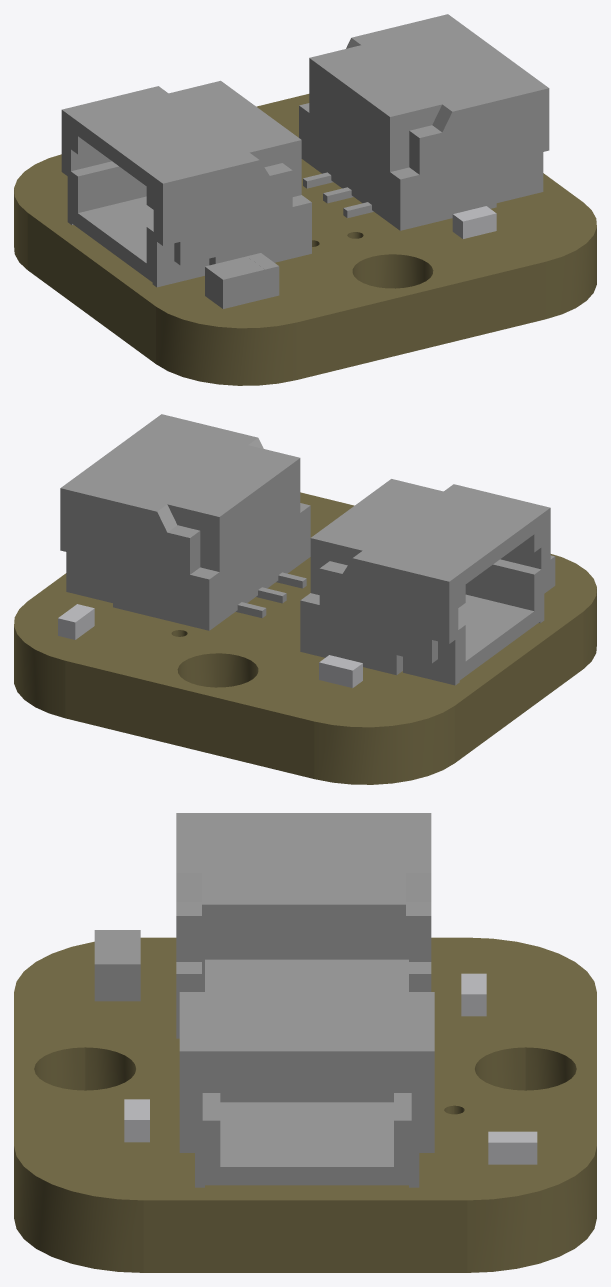
Rendered from ada-5975.glb.
3 views of the same model, one above another, from view 1: azimuth 30°, elevation 25°; view 2: azimuth 150°, elevation 25°; view 3: azimuth 270°, elevation 25° (orthographic). The views are drawn at different scales.
Parts seen in each view (by area): view 1: 0.3333333333333333_0.3333333333333333_0.3333333333333333_0, 0.16666666666666666_0.16666666666666666_0.08333333333333333_, 0.5833333333333334_0.5833333333333334_0.5833333333333334_0.8; view 2: 0.3333333333333333_0.3333333333333333_0.3333333333333333_0, 0.16666666666666666_0.16666666666666666_0.08333333333333333_, 0.5833333333333334_0.5833333333333334_0.5833333333333334_0.8; view 3: 0.16666666666666666_0.16666666666666666_0.08333333333333333_, 0.3333333333333333_0.3333333333333333_0.3333333333333333_0, 0.5833333333333334_0.5833333333333334_0.5833333333333334_0.8.
Boxes of the visible parts, <box> form: 0.3333333333333333_0.3333333333333333_0.3333333333333333_0: <box>61,14,549,308</box>; 0.16666666666666666_0.16666666666666666_0.08333333333333333_: <box>14,94,596,385</box>; 0.5833333333333334_0.5833333333333334_0.5833333333333334_0.8: <box>452,206,496,238</box>; 0.3333333333333333_0.3333333333333333_0.3333333333333333_0: <box>60,414,555,685</box>; 0.16666666666666666_0.16666666666666666_0.08333333333333333_: <box>14,492,596,784</box>; 0.5833333333333334_0.5833333333333334_0.5833333333333334_0.8: <box>58,604,362,687</box>; 0.16666666666666666_0.16666666666666666_0.08333333333333333_: <box>14,937,596,1272</box>; 0.3333333333333333_0.3333333333333333_0.3333333333333333_0: <box>94,813,434,1187</box>; 0.5833333333333334_0.5833333333333334_0.5833333333333334_0.8: <box>124,973,537,1164</box>.
Bounding box in the file's own units: 1.22 × 0.593 × 1.14.
